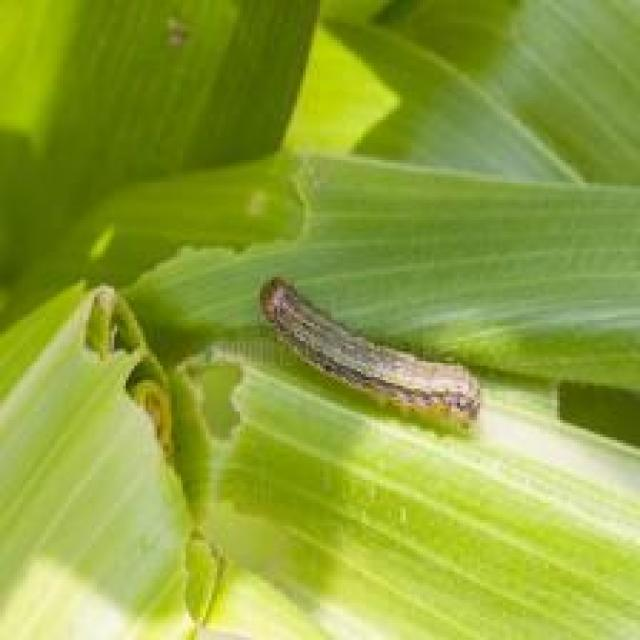Plaga: (215, 276, 510, 413)
